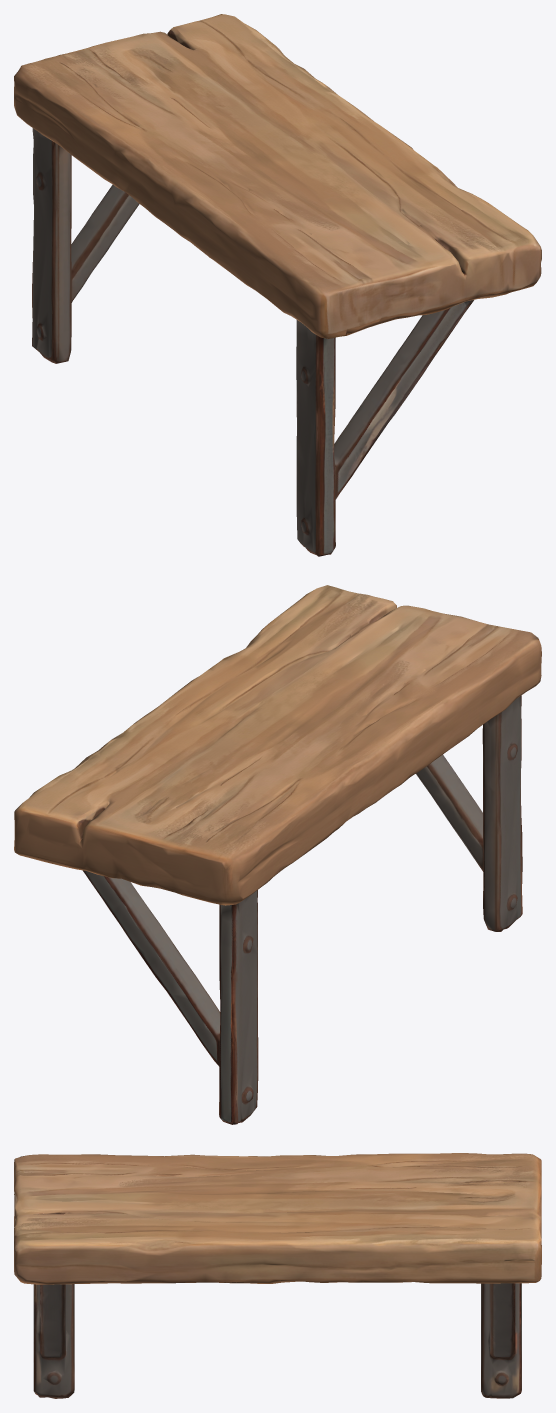
The model's file is kit_wall_shelf_bracket.glb.
3 views of the same model, one above another, from view 1: azimuth 30°, elevation 25°; view 2: azimuth 150°, elevation 25°; view 3: azimuth 270°, elevation 25° (orthographic). The views are drawn at different scales.
Parts seen in each view (by area): view 1: tripo_node_0cbc63c8-7903-4880-adbf-88018ee6780b; view 2: tripo_node_0cbc63c8-7903-4880-adbf-88018ee6780b; view 3: tripo_node_0cbc63c8-7903-4880-adbf-88018ee6780b.
Part boxes in pixels (x1,y1,x2,y2): tripo_node_0cbc63c8-7903-4880-adbf-88018ee6780b: (14,14,541,556); tripo_node_0cbc63c8-7903-4880-adbf-88018ee6780b: (14,585,541,1124); tripo_node_0cbc63c8-7903-4880-adbf-88018ee6780b: (14,1153,541,1398).
Size of the model in its own units: 0.4167 by 0.4984 by 1.
1 material, 1 textured.
